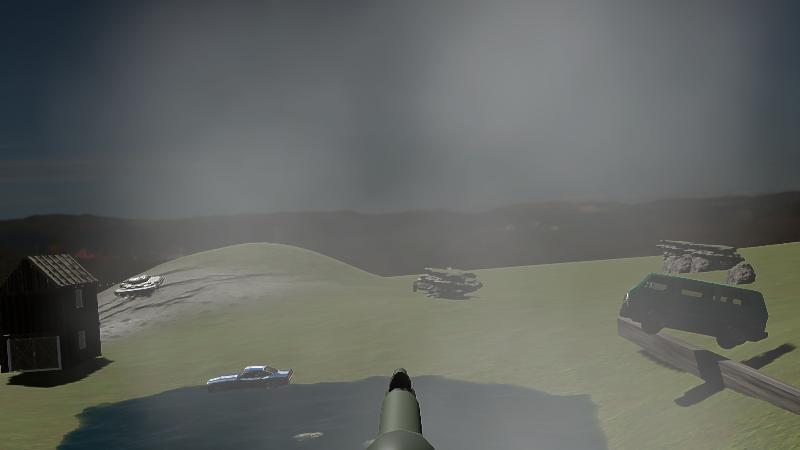Tank: (101, 268, 177, 300), (414, 265, 483, 300)
